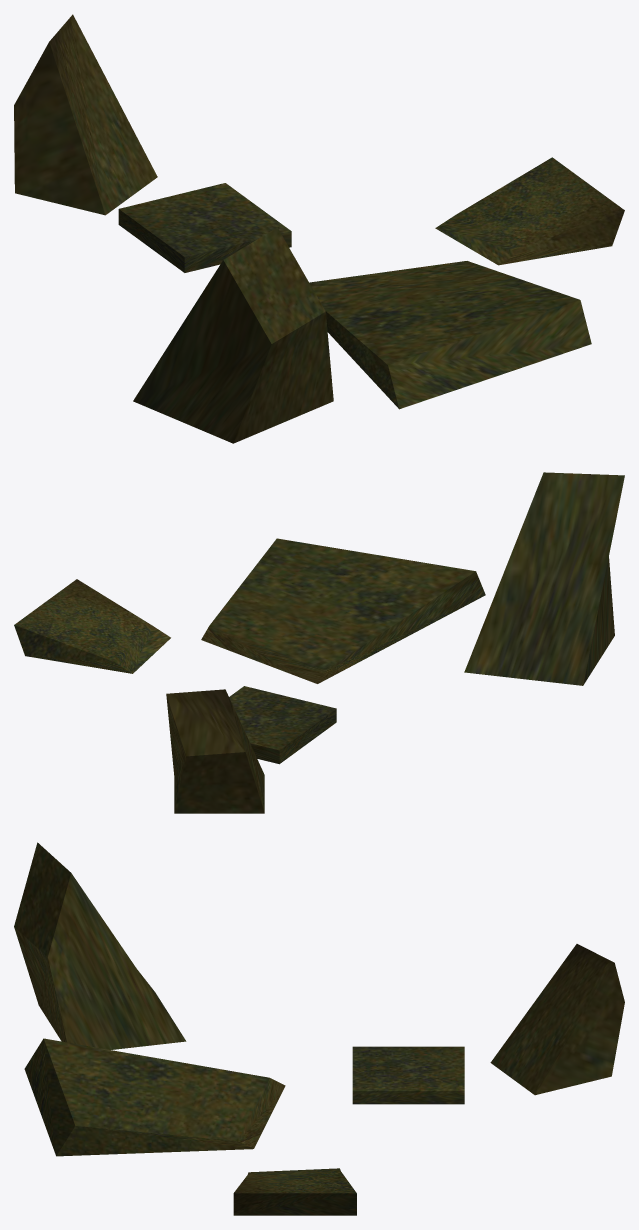
The model's file is stones.FBX.
3 views of the same model, one above another, from view 1: azimuth 30°, elevation 25°; view 2: azimuth 150°, elevation 25°; view 3: azimuth 270°, elevation 25° (orthographic). The views are drawn at different scales.
Visible parts, largest first — view 1: Box008; view 2: Box008; view 3: Box008.
Boxes of the visible parts, x1=… form: Box008: x1=14, y1=14, x2=624, y2=443; Box008: x1=14, y1=472, x2=624, y2=813; Box008: x1=14, y1=842, x2=624, y2=1215.
Size of the model in its own units: 1533 by 528 by 1775.
